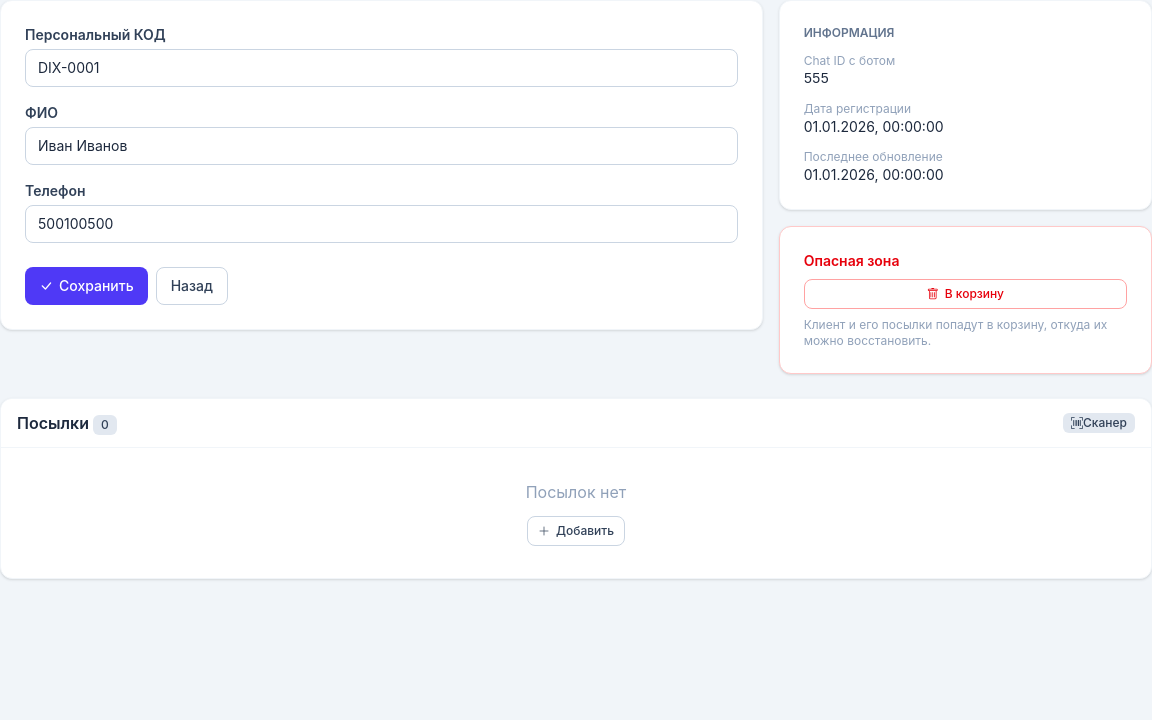
Test: UserDetailView — trash, deliveries and duplicates › shows the duplicate modal when adding a package with an existing track code
Click the button "Добавить" at (576, 531), box x1=527 y1=516 x2=625 y2=546
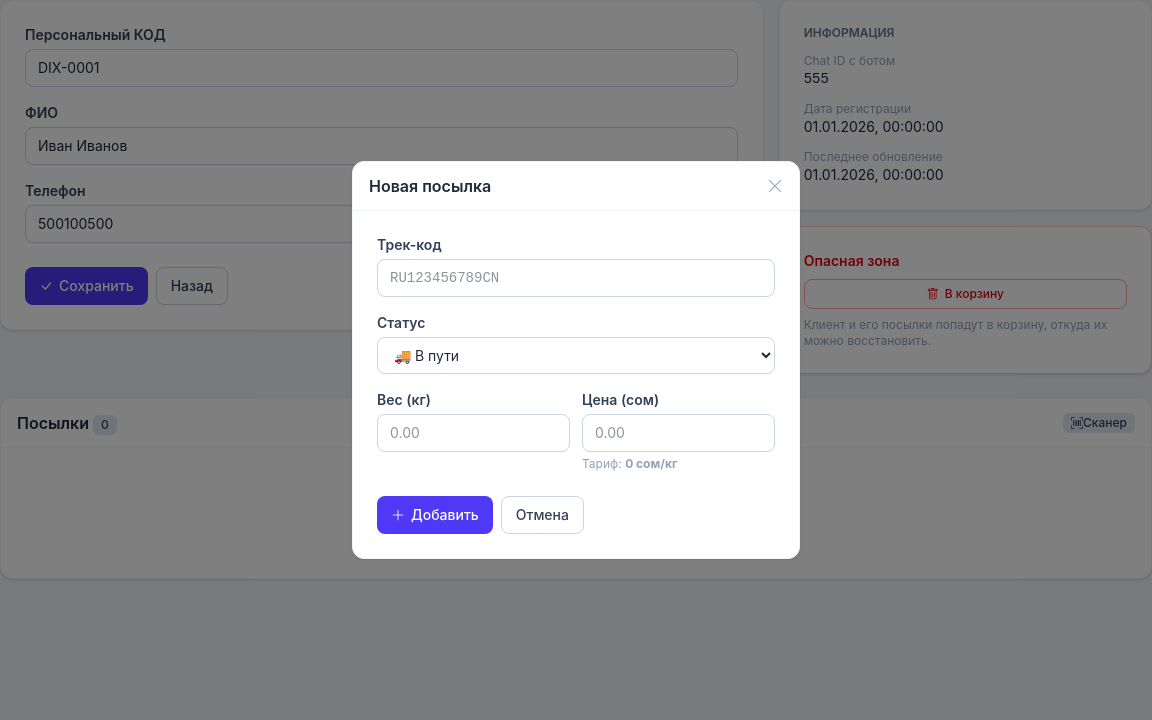
Type "T9" into the field with placeholder "RU123456789CN" at (576, 278), box x1=377 y1=259 x2=775 y2=297
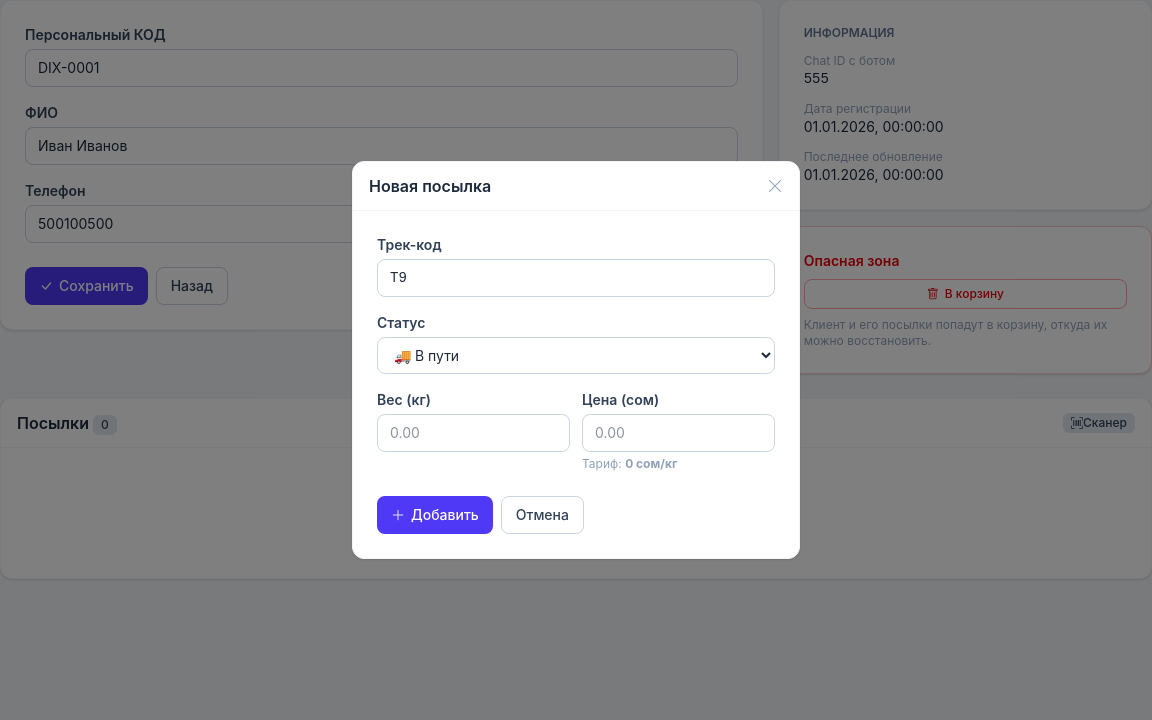
Submit the form, box x1=377 y1=235 x2=775 y2=534
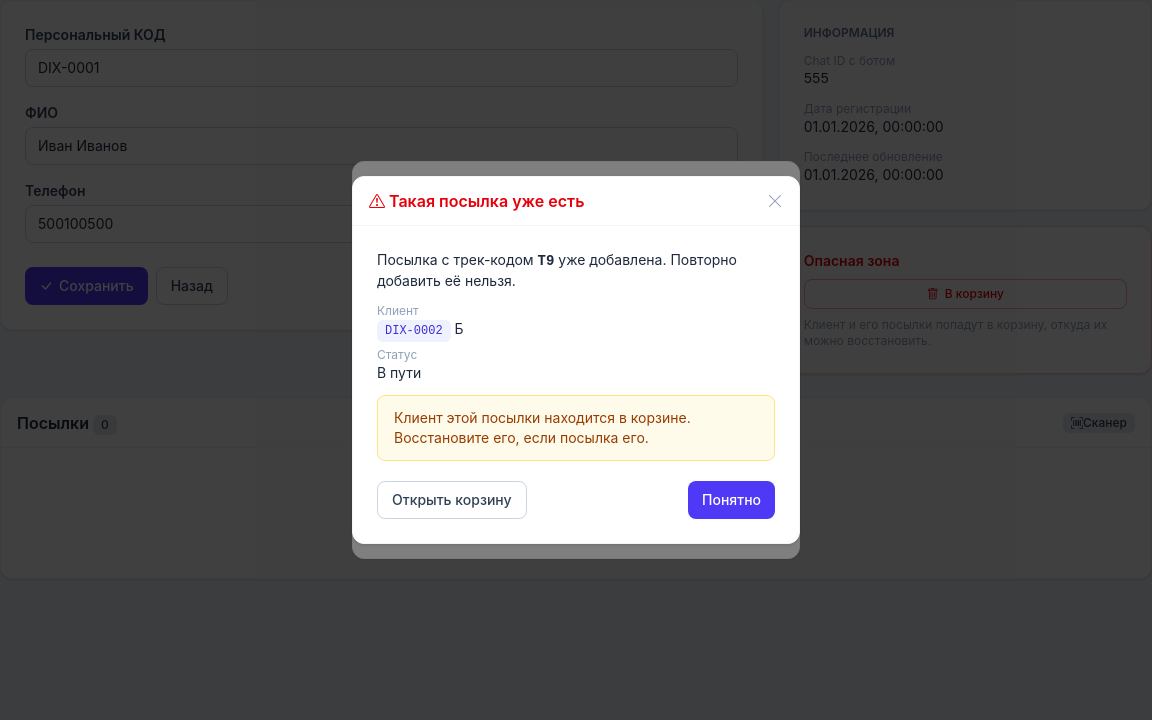
Result: the text "Новая посылка" is shown at x1=369 y1=174 x2=491 y2=198
Result: the element with test id "duplicate-modal" is shown
Result: the text with test id "duplicate-in-trash" is shown at x1=377 y1=395 x2=775 y2=461
